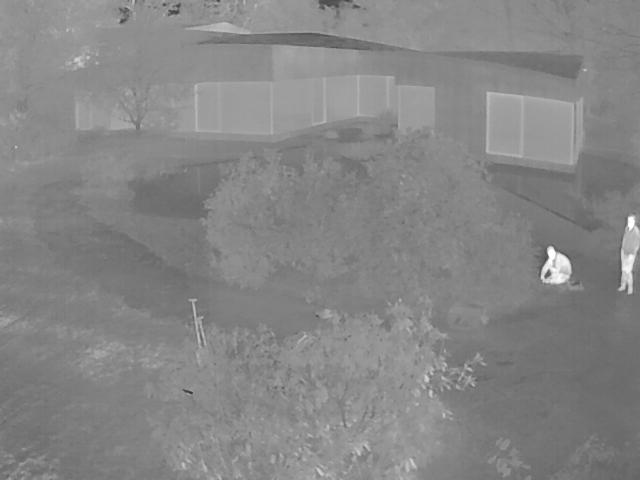person: (616, 214, 640, 294), (544, 245, 573, 284)
